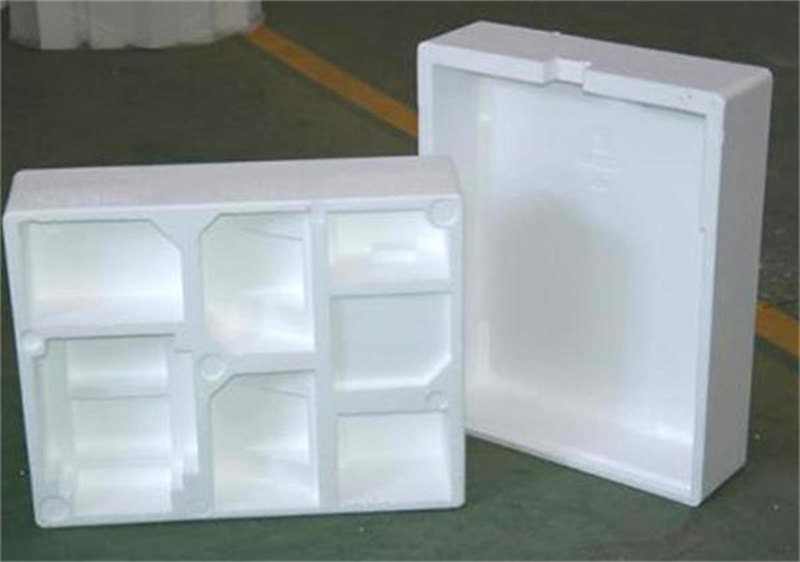泡沫箱: (4, 154, 464, 527), (418, 23, 770, 505)
